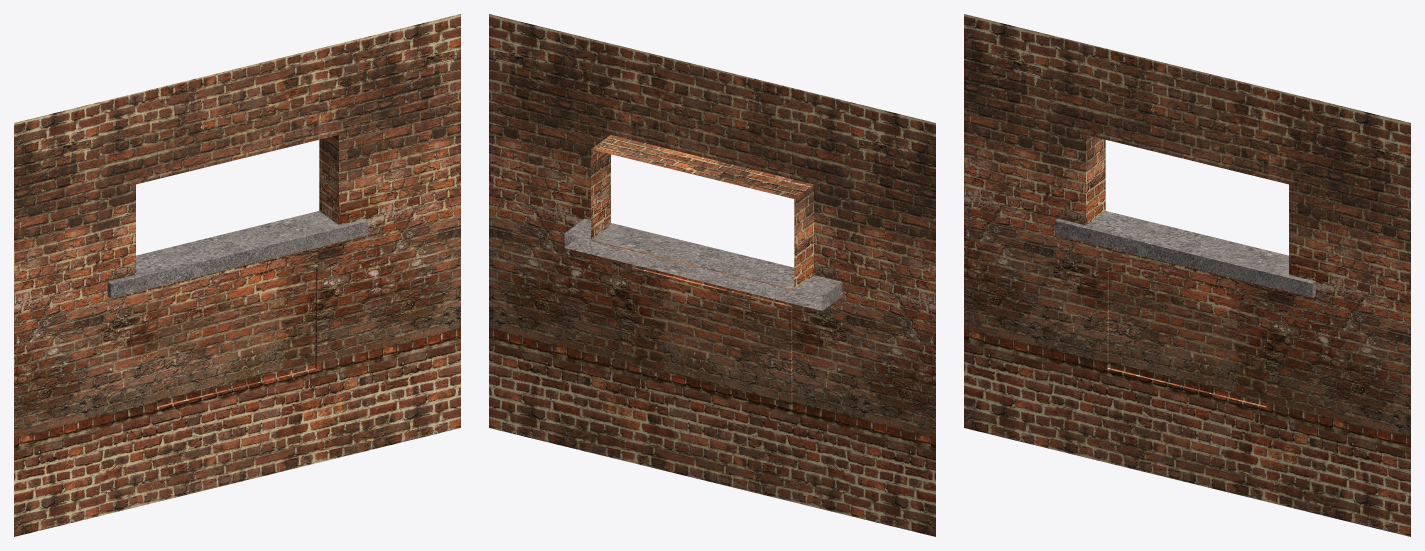
File: BUILDING_caveFloorWindow_01.FBX
3 views of the same model, side by side, from view 1: azimuth 30°, elevation 25°; view 2: azimuth 150°, elevation 25°; view 3: azimuth 330°, elevation 25° (orthographic).
Parts seen in each view (by area): view 1: BUILDING_caveFloorWindow_01; view 2: BUILDING_caveFloorWindow_01; view 3: BUILDING_caveFloorWindow_01.
Boxes of the visible parts, x1,y1,x2,y2 form: BUILDING_caveFloorWindow_01: (14, 14, 460, 536); BUILDING_caveFloorWindow_01: (489, 14, 935, 536); BUILDING_caveFloorWindow_01: (964, 14, 1410, 536).
Size of the model in its own units: 3.64 by 3.22 by 0.3207.
2 materials, 2 textured.
